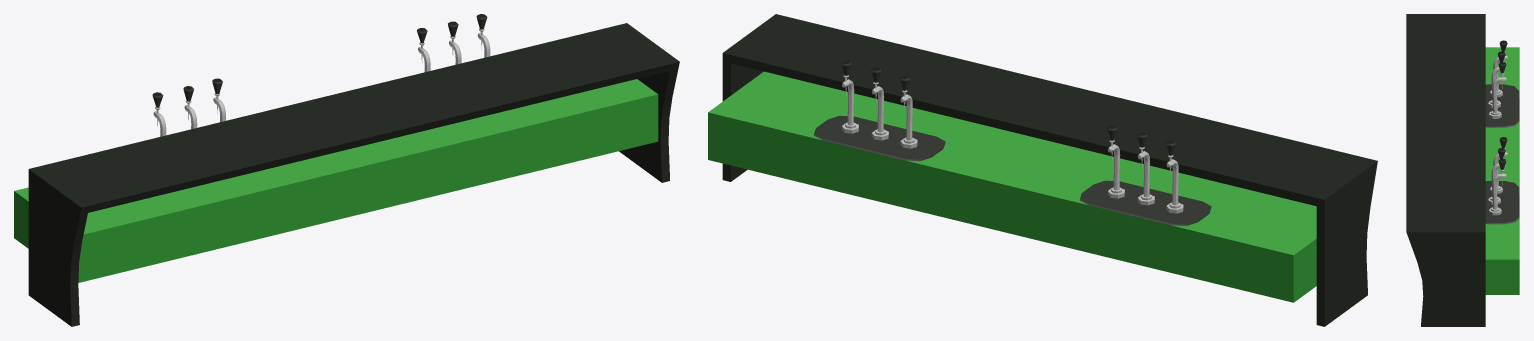
File: Bar_Green.glb
The picture shows the model from 3 angles, left to right: view 1: azimuth 30°, elevation 25°; view 2: azimuth 150°, elevation 25°; view 3: azimuth 270°, elevation 25°; orthographic projection. The views are drawn at different scales.
Parts seen in each view (by area): view 1: bar_Green; view 2: bar_Green; view 3: bar_Green.
Part boxes in pixels (x1,y1,x2,y2): bar_Green: (14,14,679,326); bar_Green: (708,14,1377,326); bar_Green: (1406,14,1519,326).
Size of what is drawn, in the model's own units: 6.13 by 1.55 by 1.34.
Materials: 1 (1 with a texture image).
